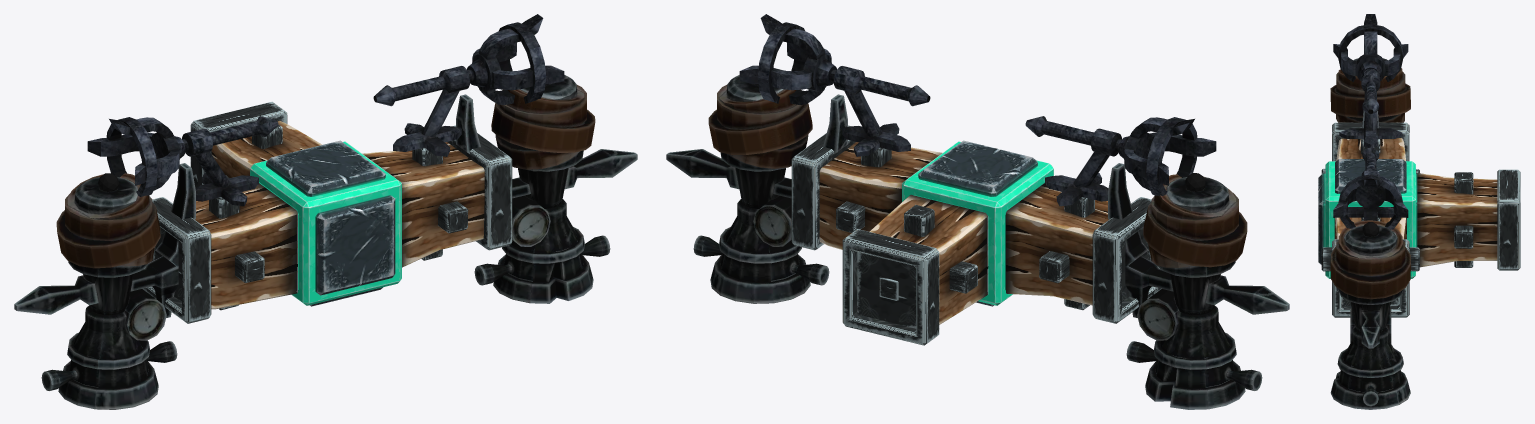
The model's file is step_010.glb.
The picture shows the model from 3 angles, left to right: view 1: azimuth 30°, elevation 25°; view 2: azimuth 150°, elevation 25°; view 3: azimuth 270°, elevation 25°; orthographic projection. The views are drawn at different scales.
Visible parts, largest first — view 1: WaterCannon_928be653-e0f6-4d7b-a0d6-11e07984c832, SingleWoodenBlock_72c407a8-6651-450a-8bd4-af0f65df91eb, Torch_14bcca2c-b154-491c-9fce-81cef2020442, StartingBlock_fc748b3c-a139-43a2-b383-b3f7f1111932; view 2: WaterCannon_928be653-e0f6-4d7b-a0d6-11e07984c832, SingleWoodenBlock_72c407a8-6651-450a-8bd4-af0f65df91eb, Torch_14bcca2c-b154-491c-9fce-81cef2020442, StartingBlock_fc748b3c-a139-43a2-b383-b3f7f1111932; view 3: WaterCannon_928be653-e0f6-4d7b-a0d6-11e07984c832, SingleWoodenBlock_72c407a8-6651-450a-8bd4-af0f65df91eb, Torch_14bcca2c-b154-491c-9fce-81cef2020442, StartingBlock_fc748b3c-a139-43a2-b383-b3f7f1111932.
Part boxes in pixels (box(x1,y1,x2,y2)): WaterCannon_928be653-e0f6-4d7b-a0d6-11e07984c832: box(14, 75, 637, 409); SingleWoodenBlock_72c407a8-6651-450a-8bd4-af0f65df91eb: box(142, 101, 512, 323); Torch_14bcca2c-b154-491c-9fce-81cef2020442: box(87, 14, 564, 206); StartingBlock_fc748b3c-a139-43a2-b383-b3f7f1111932: box(250, 140, 401, 306); WaterCannon_928be653-e0f6-4d7b-a0d6-11e07984c832: box(666, 75, 1289, 409); SingleWoodenBlock_72c407a8-6651-450a-8bd4-af0f65df91eb: box(791, 125, 1161, 345); Torch_14bcca2c-b154-491c-9fce-81cef2020442: box(739, 14, 1216, 206); StartingBlock_fc748b3c-a139-43a2-b383-b3f7f1111932: box(902, 140, 1053, 306); WaterCannon_928be653-e0f6-4d7b-a0d6-11e07984c832: box(1330, 58, 1410, 409); SingleWoodenBlock_72c407a8-6651-450a-8bd4-af0f65df91eb: box(1321, 122, 1520, 317); Torch_14bcca2c-b154-491c-9fce-81cef2020442: box(1333, 14, 1408, 229); StartingBlock_fc748b3c-a139-43a2-b383-b3f7f1111932: box(1318, 159, 1417, 278).
Bounding box in the file's own units: 6.11 × 2.52 × 2.17.
4 materials, 4 textured.
